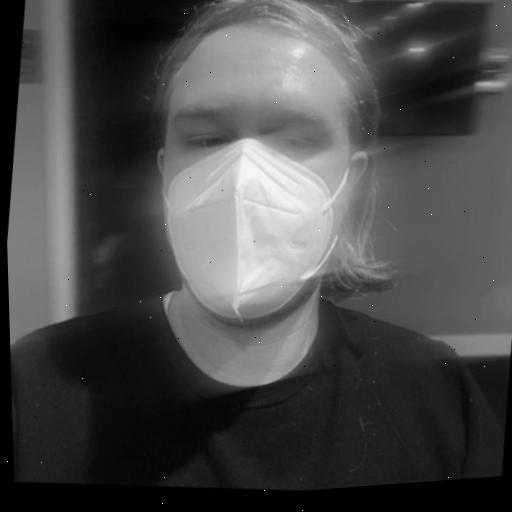mask: (114, 0, 430, 372)
